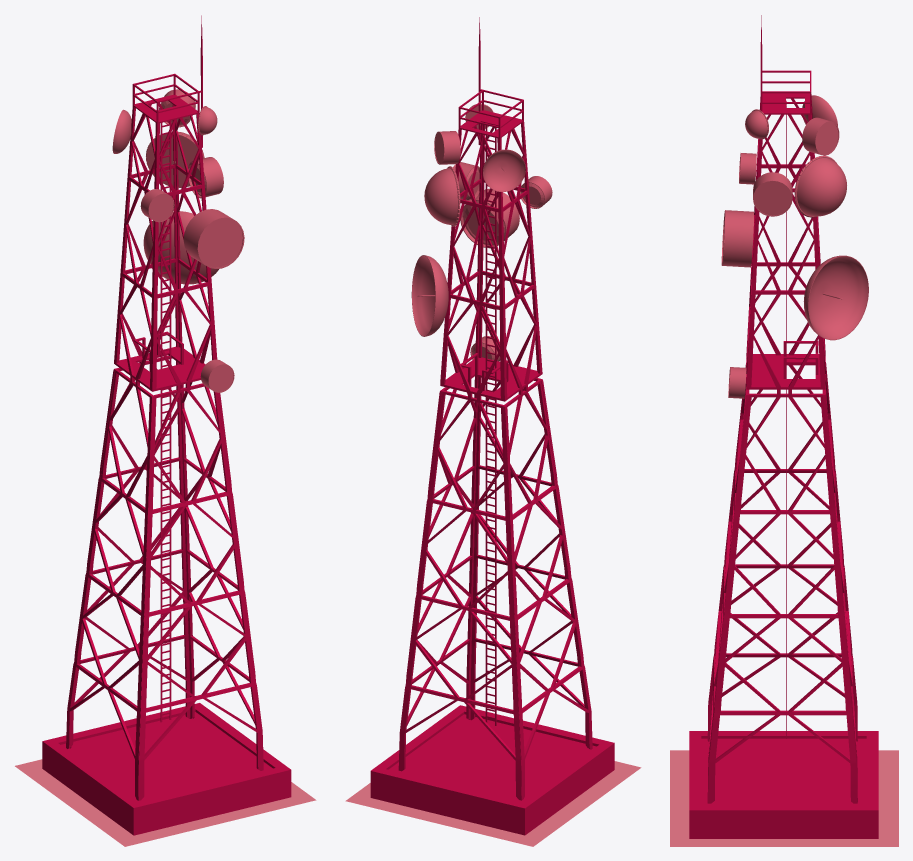
File: tower_pink.fbx
3 views of the same model, side by side, from view 1: azimuth 30°, elevation 25°; view 2: azimuth 150°, elevation 25°; view 3: azimuth 270°, elevation 25° (orthographic). The views are drawn at different scales.
Parts seen in each view (by area): view 1: inc3d_comm_tower:Line03, inc3d_comm_tower:Box01, ght_ght2, inc3d_comm_tower:Cylinder03, inc3d_comm_tower:satalite, inc3d_comm_tower:Sphere01, inc3d_comm_tower:Cylinder01, inc3d_comm_tower:Cylinder04, inc3d_comm_tower:Cylinder05, inc3d_comm_tower:satalite01; view 2: inc3d_comm_tower:Line03, inc3d_comm_tower:Box01, ght_ght2, inc3d_comm_tower:satalite, inc3d_comm_tower:Sphere01, inc3d_comm_tower:satalite01, inc3d_comm_tower:Cylinder03, inc3d_comm_tower:Cylinder02, inc3d_comm_tower:Cylinder05; view 3: inc3d_comm_tower:Line03, inc3d_comm_tower:Box01, ght_ght2, inc3d_comm_tower:satalite, inc3d_comm_tower:Sphere01, inc3d_comm_tower:Cylinder03, inc3d_comm_tower:Cylinder01, inc3d_comm_tower:Cylinder02, inc3d_comm_tower:Sphere02, inc3d_comm_tower:Cylinder04, inc3d_comm_tower:Cylinder05, inc3d_comm_tower:satalite01.
Part boxes in pixels (left/top/right/bottom): inc3d_comm_tower:Line03: left=66, top=15, right=263, bottom=800; inc3d_comm_tower:Box01: left=42, top=703, right=291, bottom=835; ght_ght2: left=15, top=759, right=316, bottom=846; inc3d_comm_tower:Cylinder03: left=183, top=209, right=244, bottom=268; inc3d_comm_tower:satalite: left=143, top=211, right=218, bottom=284; inc3d_comm_tower:Sphere01: left=146, top=131, right=204, bottom=187; inc3d_comm_tower:Cylinder01: left=188, top=157, right=223, bottom=198; inc3d_comm_tower:Cylinder04: left=200, top=359, right=234, bottom=392; inc3d_comm_tower:Cylinder05: left=140, top=189, right=174, bottom=222; inc3d_comm_tower:satalite01: left=112, top=109, right=131, bottom=153; inc3d_comm_tower:Line03: left=398, top=17, right=592, bottom=800; inc3d_comm_tower:Box01: left=370, top=705, right=614, bottom=835; ght_ght2: left=345, top=761, right=641, bottom=846; inc3d_comm_tower:satalite: left=411, top=255, right=448, bottom=336; inc3d_comm_tower:Sphere01: left=424, top=166, right=460, bottom=226; inc3d_comm_tower:satalite01: left=483, top=149, right=525, bottom=191; inc3d_comm_tower:Cylinder03: left=460, top=188, right=519, bottom=248; inc3d_comm_tower:Cylinder02: left=434, top=131, right=460, bottom=164; inc3d_comm_tower:Cylinder05: left=519, top=176, right=552, bottom=208; inc3d_comm_tower:Line03: left=707, top=15, right=857, bottom=803; inc3d_comm_tower:Box01: left=689, top=731, right=878, bottom=838; ght_ght2: left=670, top=750, right=898, bottom=846; inc3d_comm_tower:satalite: left=803, top=255, right=868, bottom=340; inc3d_comm_tower:Sphere01: left=794, top=155, right=846, bottom=217; inc3d_comm_tower:Cylinder03: left=721, top=210, right=753, bottom=267; inc3d_comm_tower:Cylinder01: left=753, top=172, right=792, bottom=216; inc3d_comm_tower:Cylinder02: left=802, top=117, right=839, bottom=155; inc3d_comm_tower:Sphere02: left=745, top=109, right=768, bottom=139; inc3d_comm_tower:Cylinder04: left=728, top=367, right=746, bottom=398; inc3d_comm_tower:Cylinder05: left=739, top=153, right=756, bottom=184; inc3d_comm_tower:satalite01: left=802, top=95, right=837, bottom=126.
Size of the model in its own units: 8 by 30.76 by 8.
